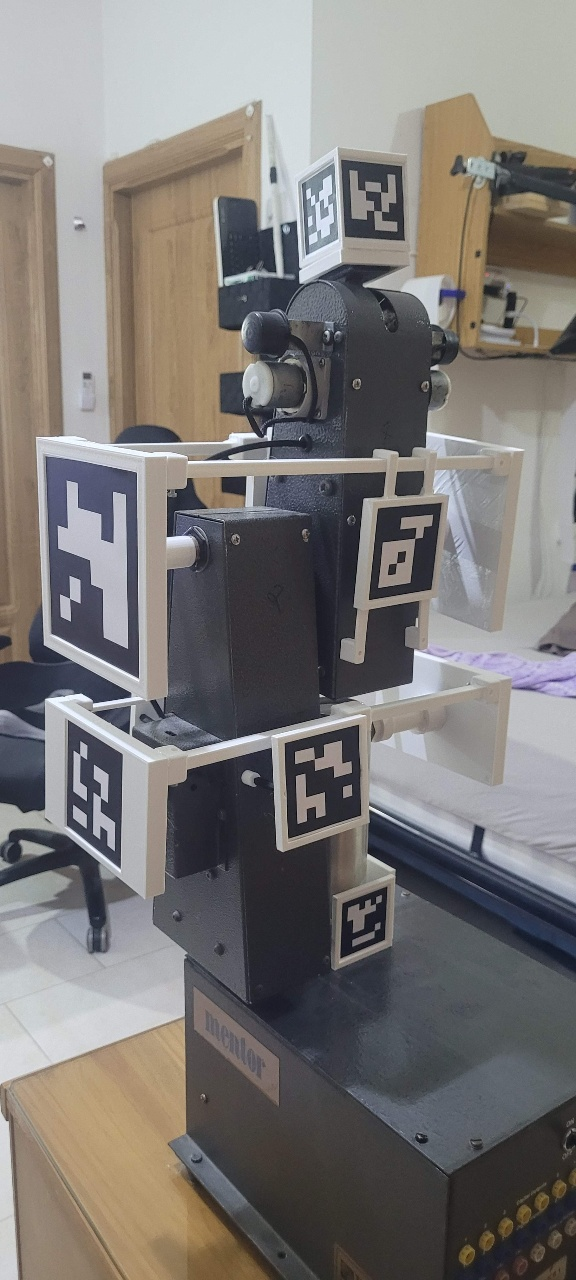Robot: (36, 146, 530, 1008)
